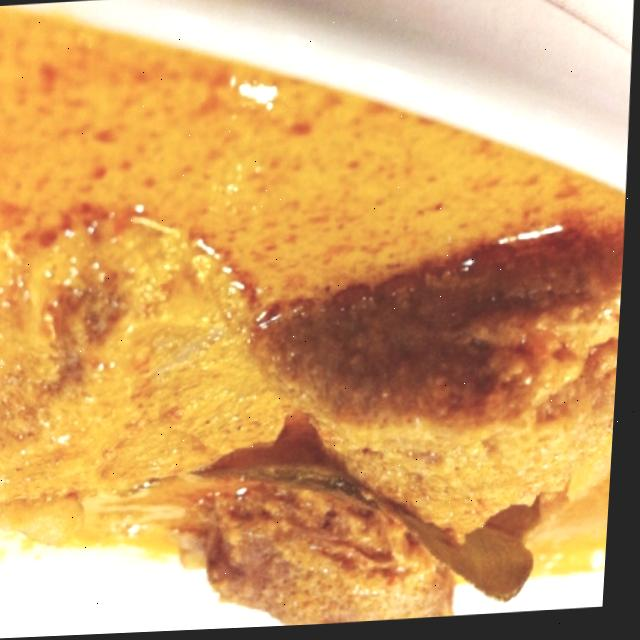熟制海鲜: (0, 18, 634, 640)
